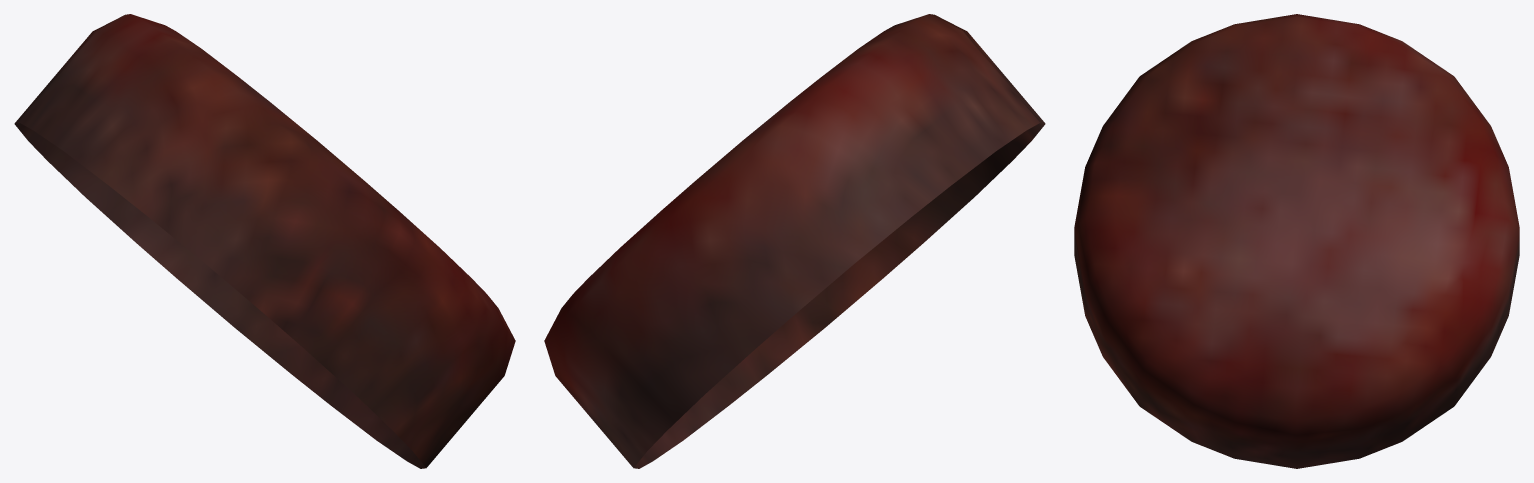
File: MachineButton.fbx
3 views of the same model, side by side, from view 1: azimuth 30°, elevation 25°; view 2: azimuth 150°, elevation 25°; view 3: azimuth 270°, elevation 25° (orthographic). The views are drawn at different scales.
Visible parts, largest first — view 1: MachineButton; view 2: MachineButton; view 3: MachineButton.
Part boxes in pixels (x1=…): MachineButton: x1=14, y1=14, x2=515, y2=468; MachineButton: x1=544, y1=14, x2=1045, y2=468; MachineButton: x1=1074, y1=14, x2=1519, y2=468.
Size of the model in its own units: 5.19 by 5.52 by 6.02.
